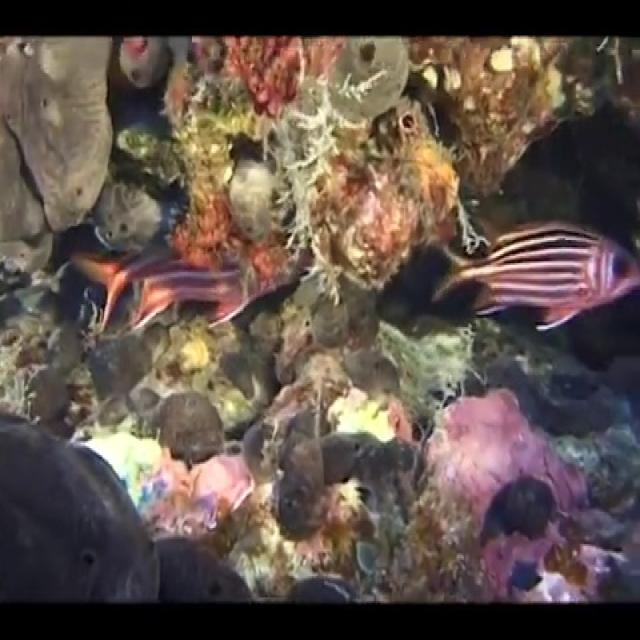Asker Baligi: (429, 217, 639, 332)
